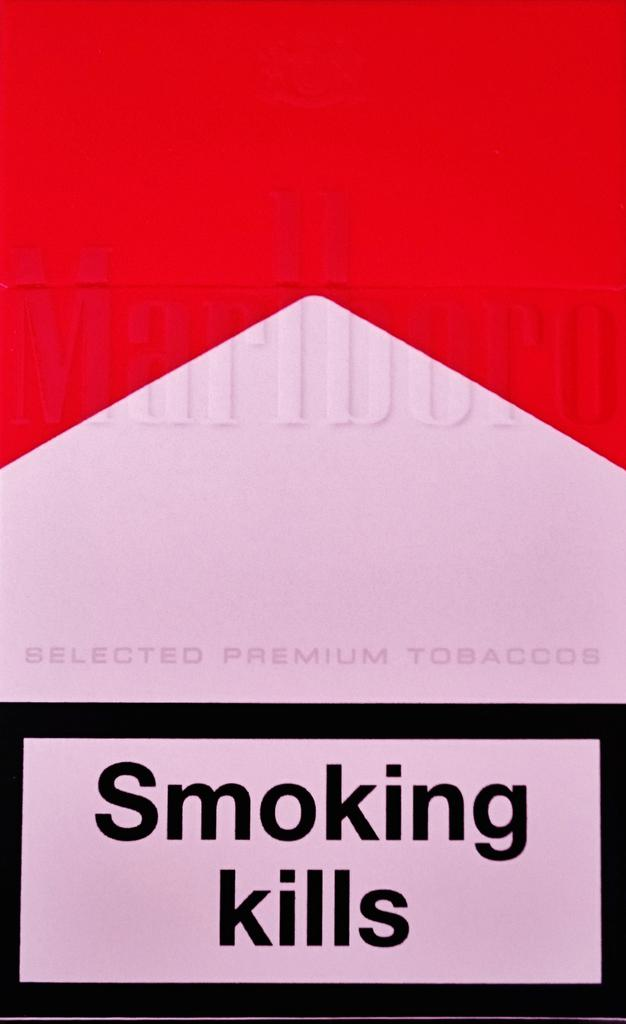marlboro_red: (3, 2, 625, 1024)
